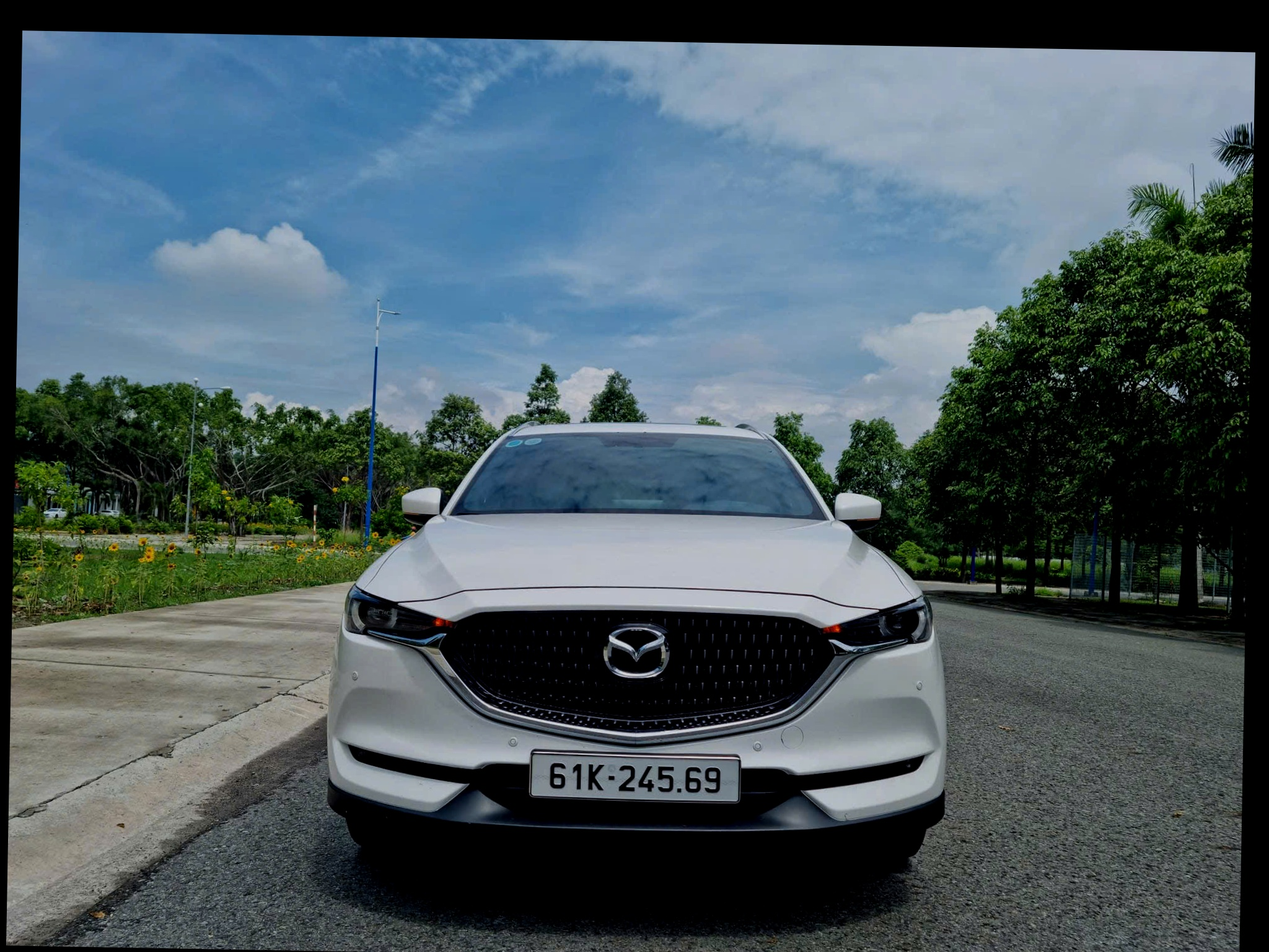Bien-so: (525, 743, 747, 807)
